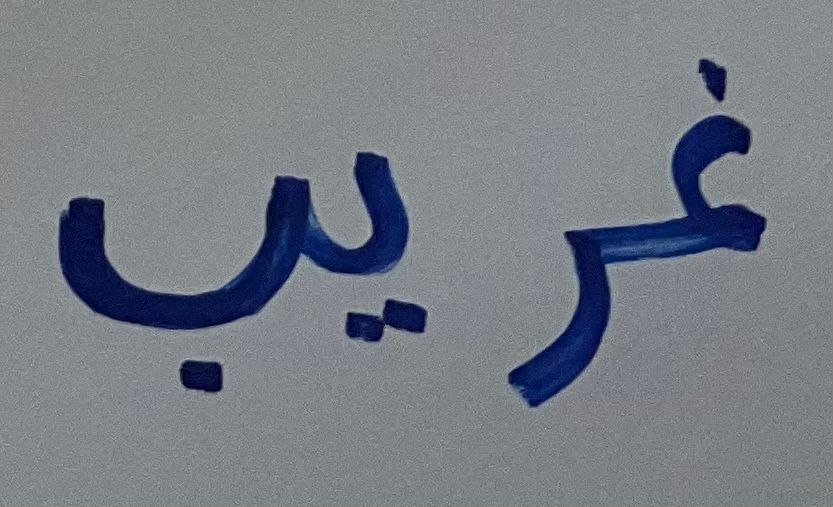beh: (41, 158, 307, 419)
ghain: (636, 34, 782, 271)
reh: (496, 205, 637, 413)
yeh: (309, 130, 455, 361)
